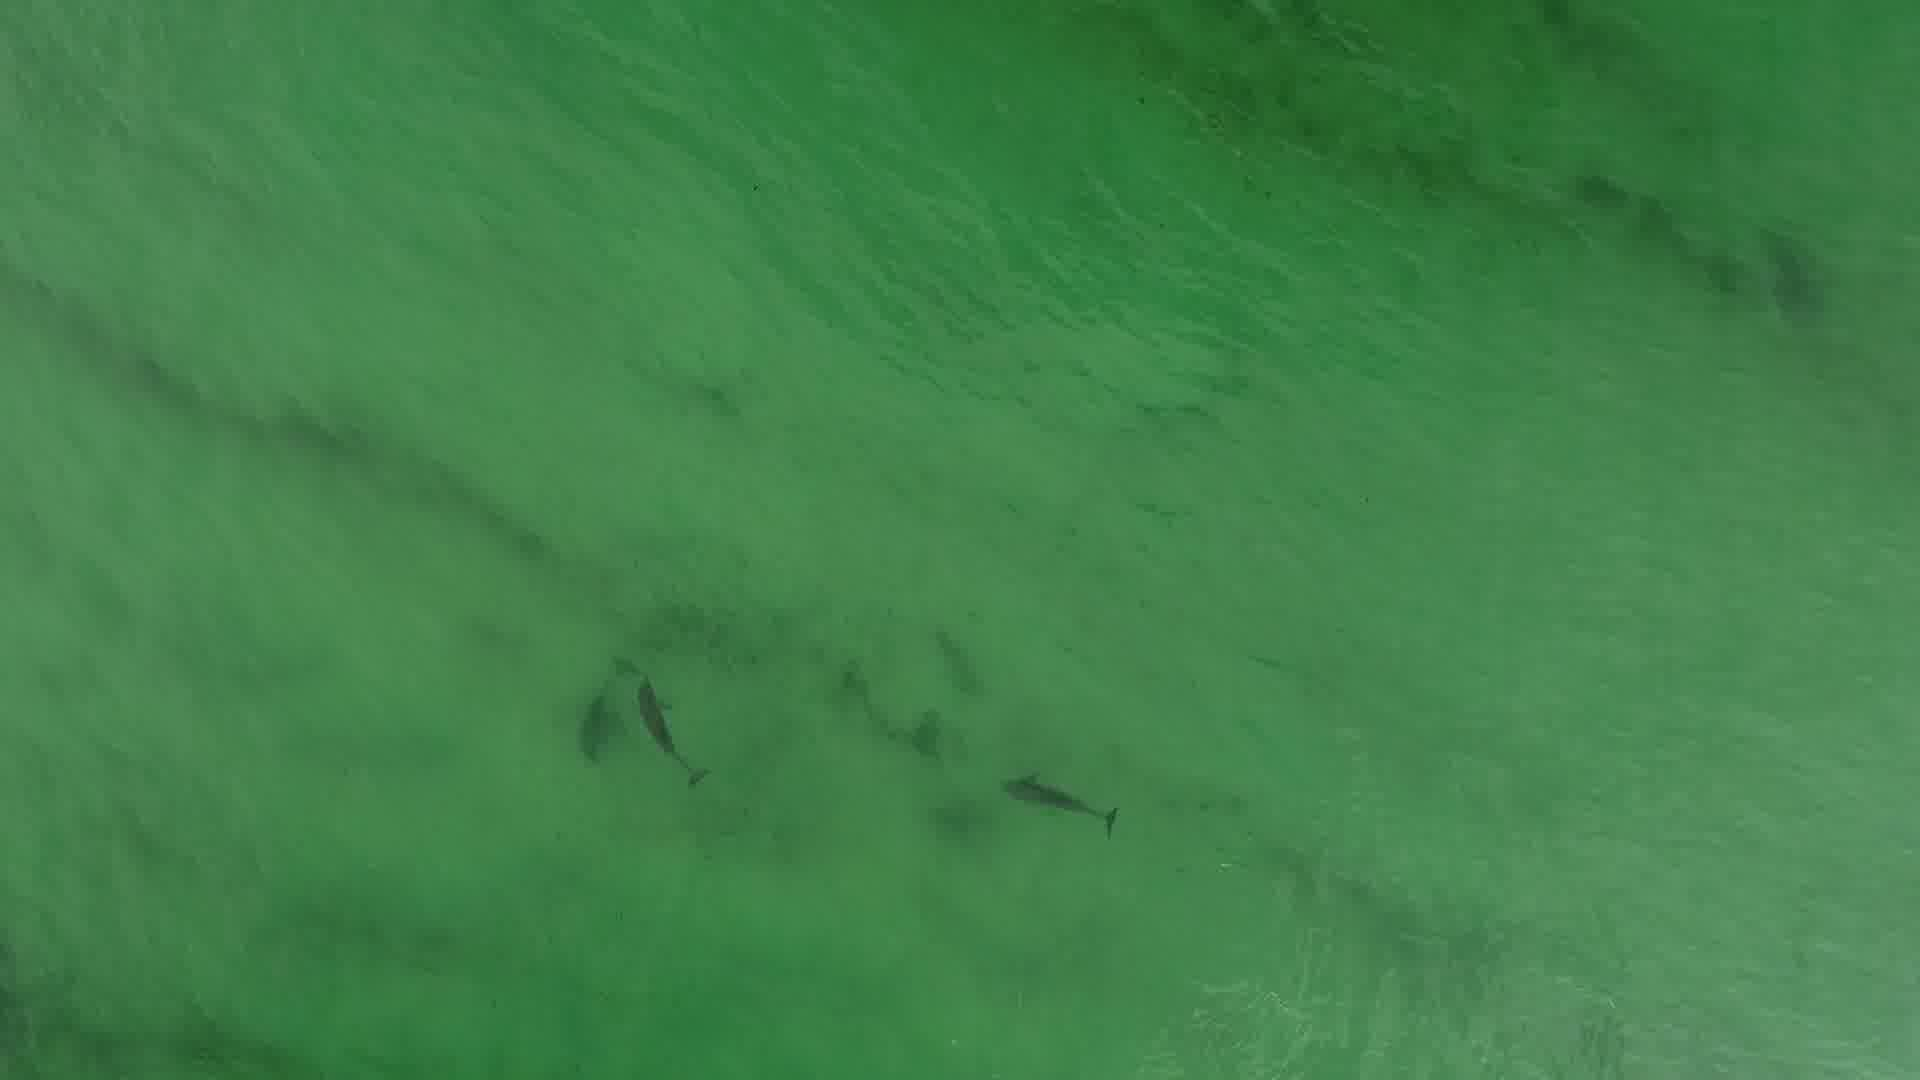dolphin: (969, 742, 1153, 853), (616, 651, 723, 800), (558, 637, 632, 769)
